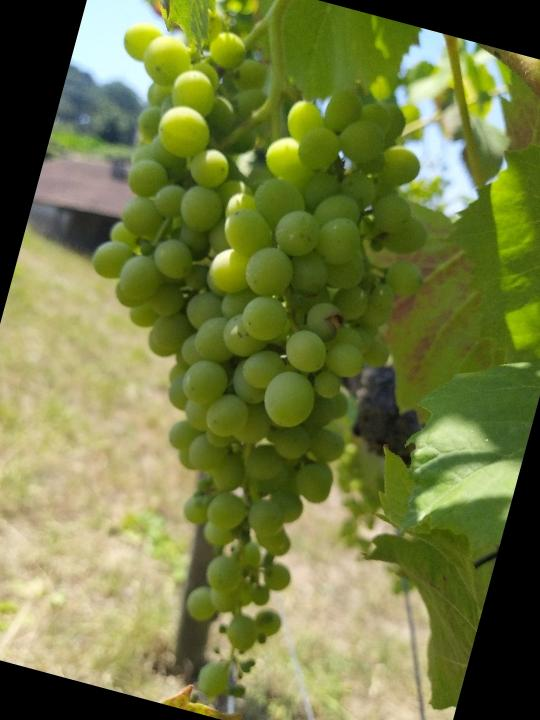grape: (0, 4, 479, 720)
